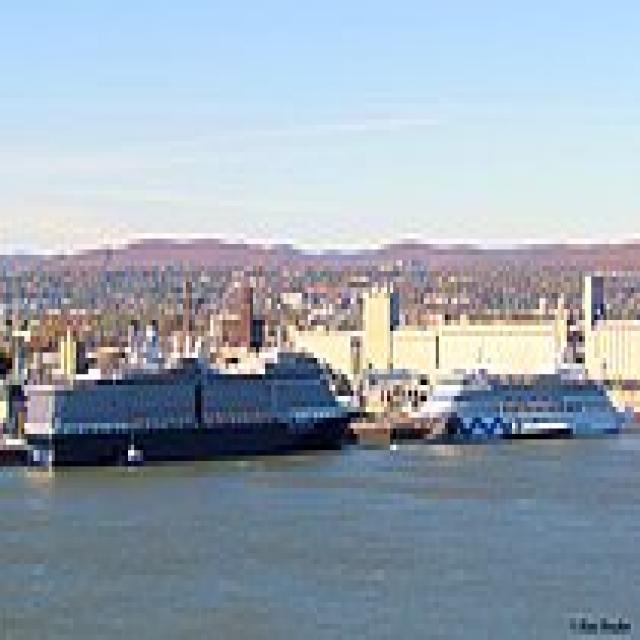Ship: (19, 332, 373, 495), (407, 327, 635, 468)
